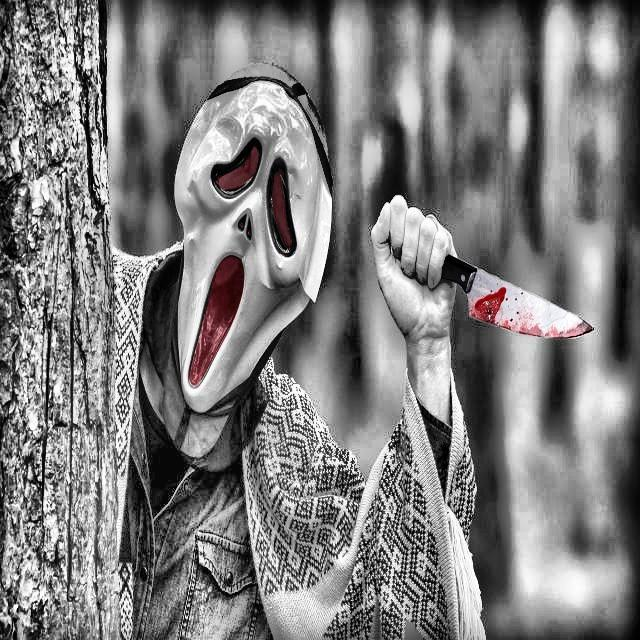knife: (436, 232, 597, 358)
